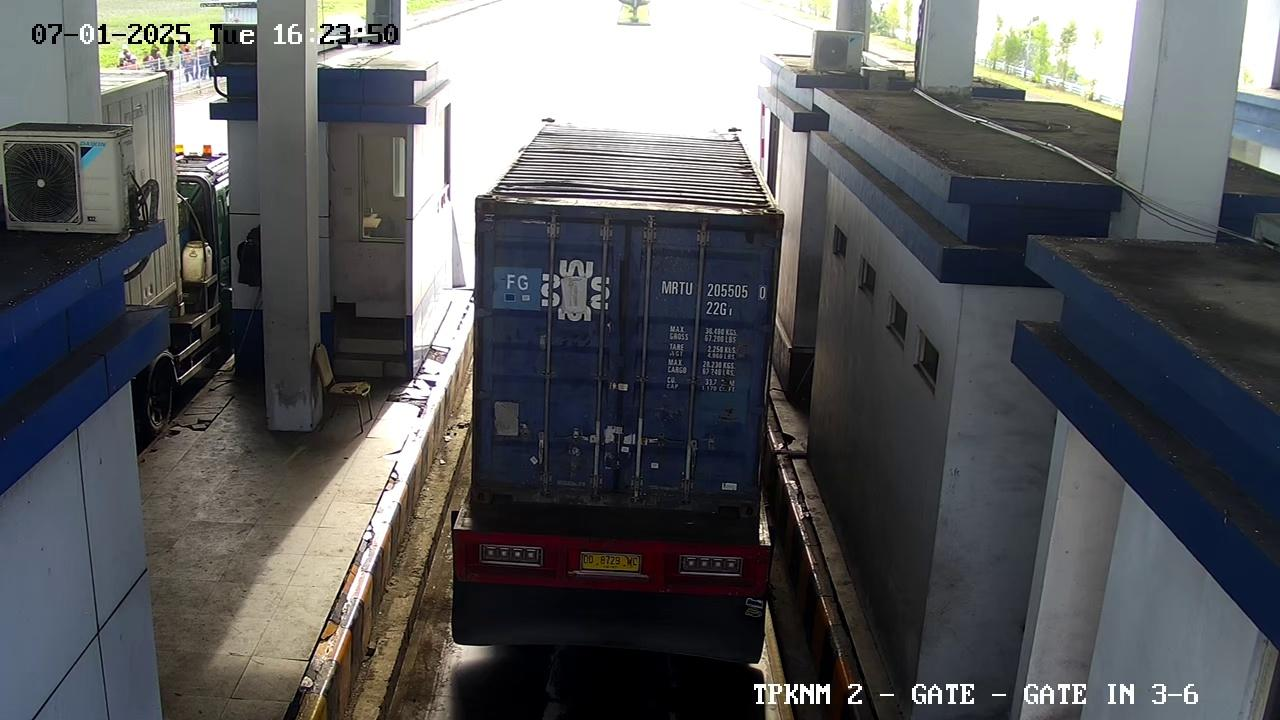Container_ID: (656, 269, 775, 300)
plate_number: (580, 542, 645, 581)
